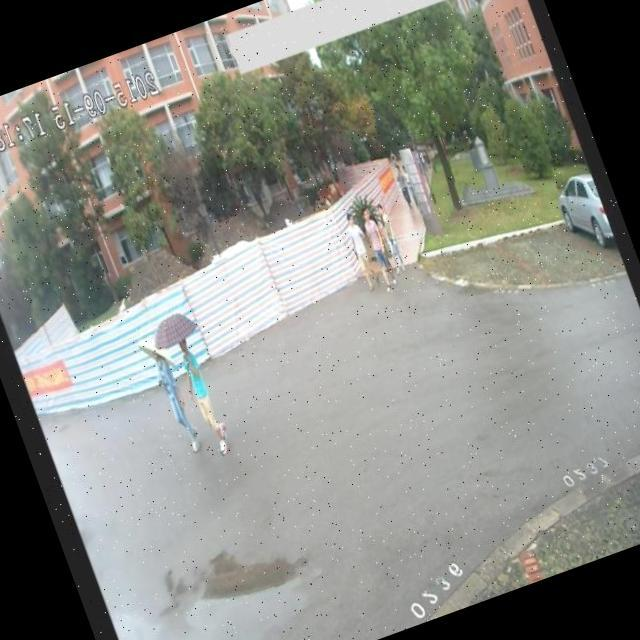person: (136, 335, 210, 465), (168, 334, 238, 464), (352, 195, 402, 298), (338, 206, 385, 300), (371, 199, 409, 275), (389, 164, 418, 223), (398, 163, 423, 216)
